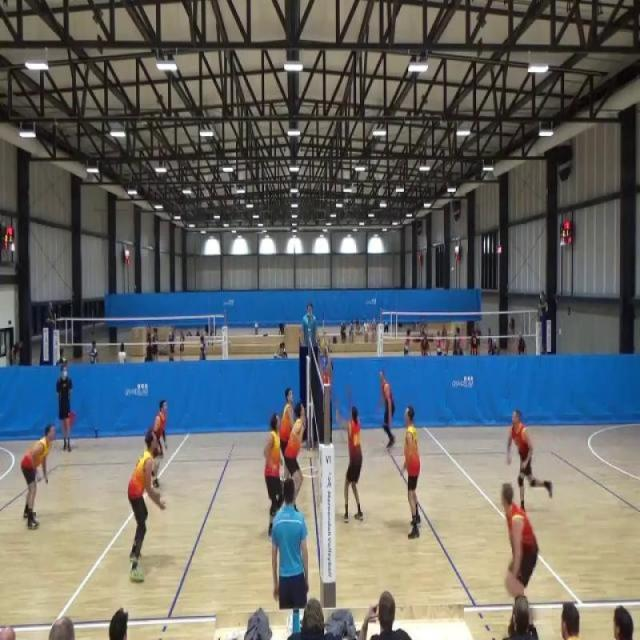volleyball: (319, 339, 326, 351)
